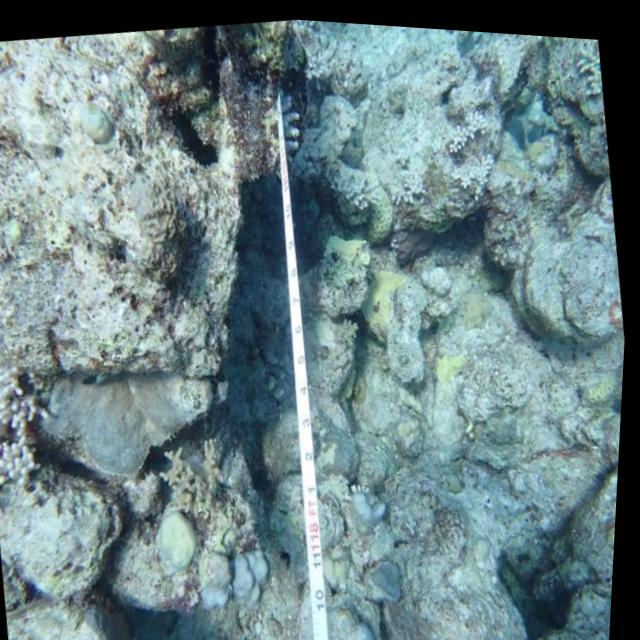Bleached Coral: (315, 36, 510, 216), (145, 486, 296, 637), (0, 303, 52, 490), (323, 557, 410, 640), (339, 463, 414, 548), (265, 85, 316, 170)
